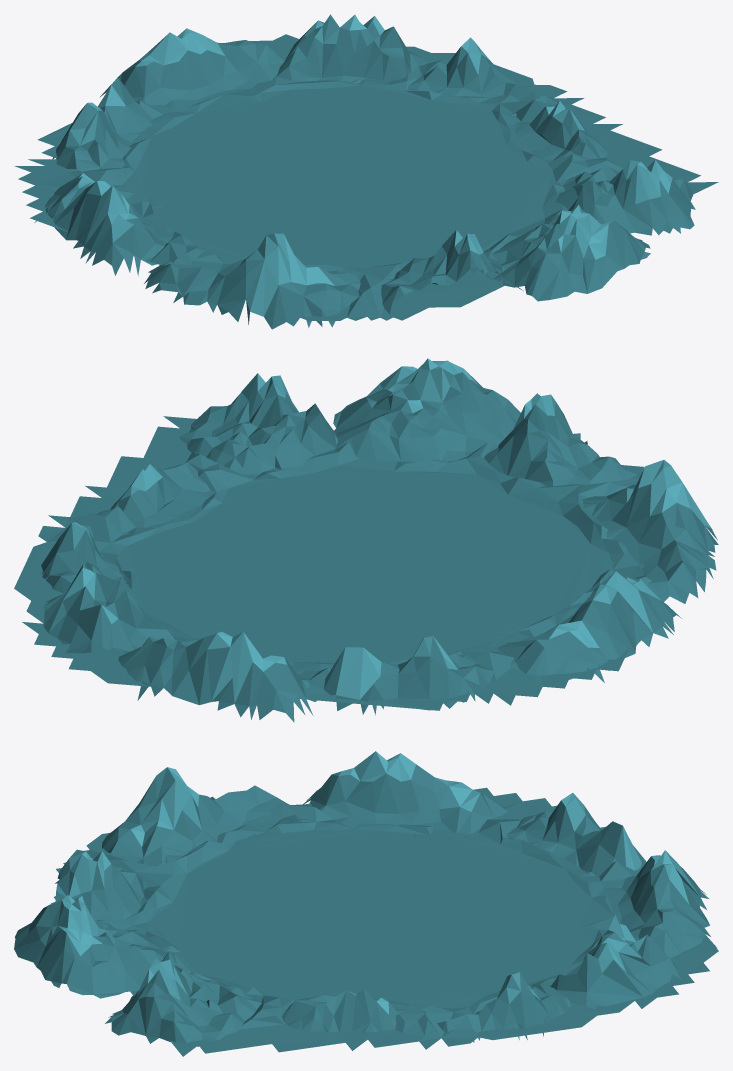
The model's file is Mountains_D7.fbx.
3 renders of one model, top to bottom at view 1: azimuth 30°, elevation 25°; view 2: azimuth 150°, elevation 25°; view 3: azimuth 270°, elevation 25°, orthographic. The views are drawn at different scales.
Visible parts, largest first — view 1: Plane.016; view 2: Plane.016; view 3: Plane.016.
Boxes of the visible parts, left/top/right/bottom form: Plane.016: left=14, top=14, right=718, bottom=329; Plane.016: left=14, top=358, right=718, bottom=722; Plane.016: left=14, top=751, right=718, bottom=1056.
Bounding box in the file's own units: 410888 × 53379 × 446124.
1 material, 1 textured.
